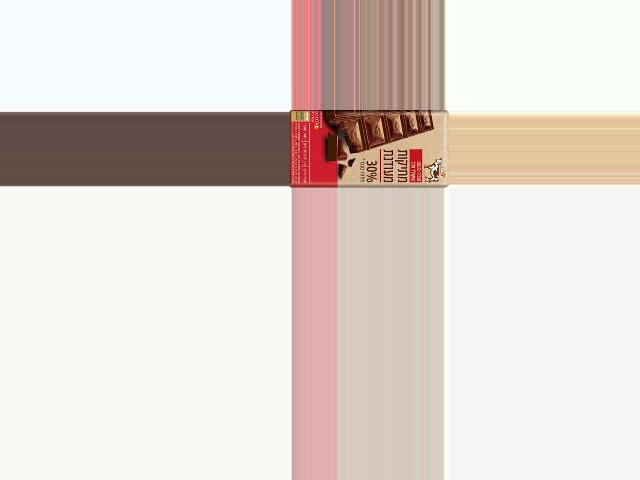chocolate: (290, 110, 448, 188)
